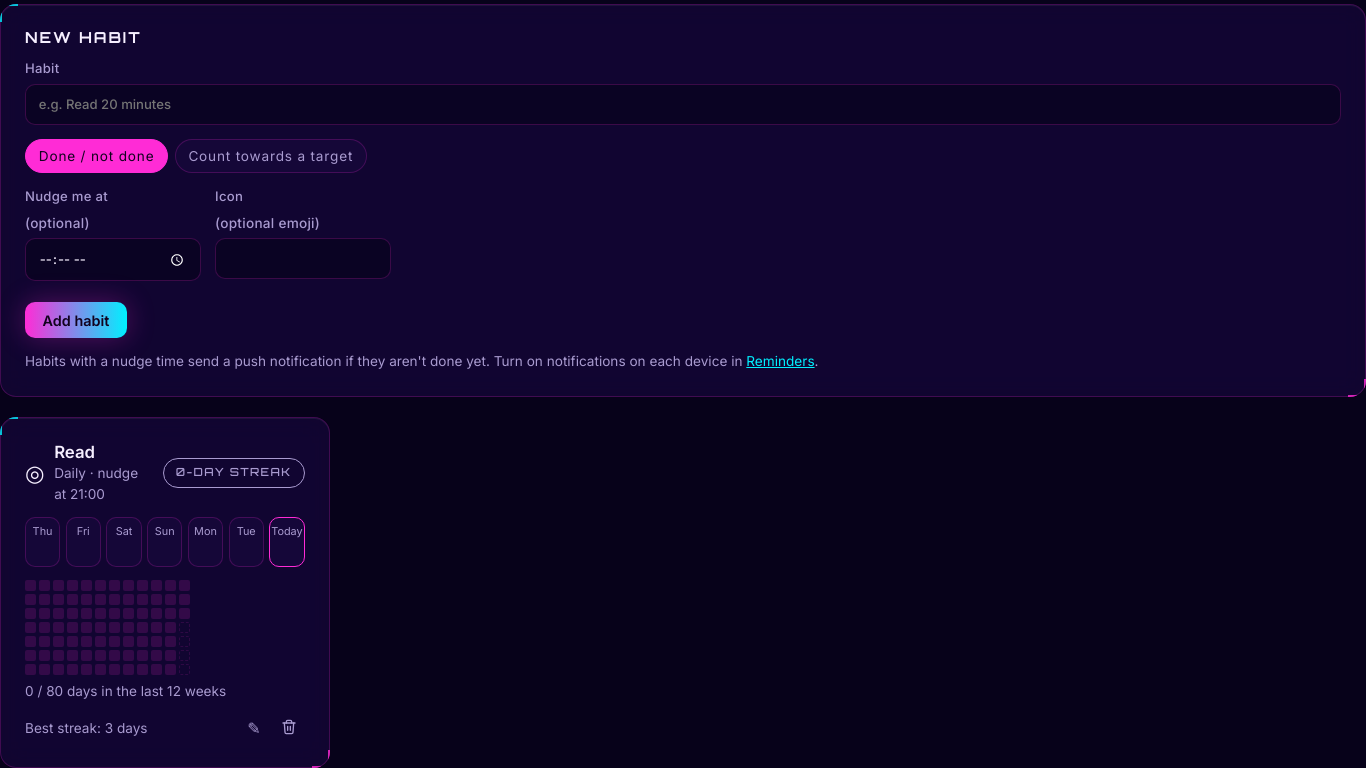
it: HabitsApp › rolls the tick back when the API refuses
The width and height of the screenshot is (1366, 768).
(page scrolled)
What coordinates should you click on to do the following:
click the button "Today"
I would click on:
 (287, 542)
Its box is 269,517 -> 304,567.
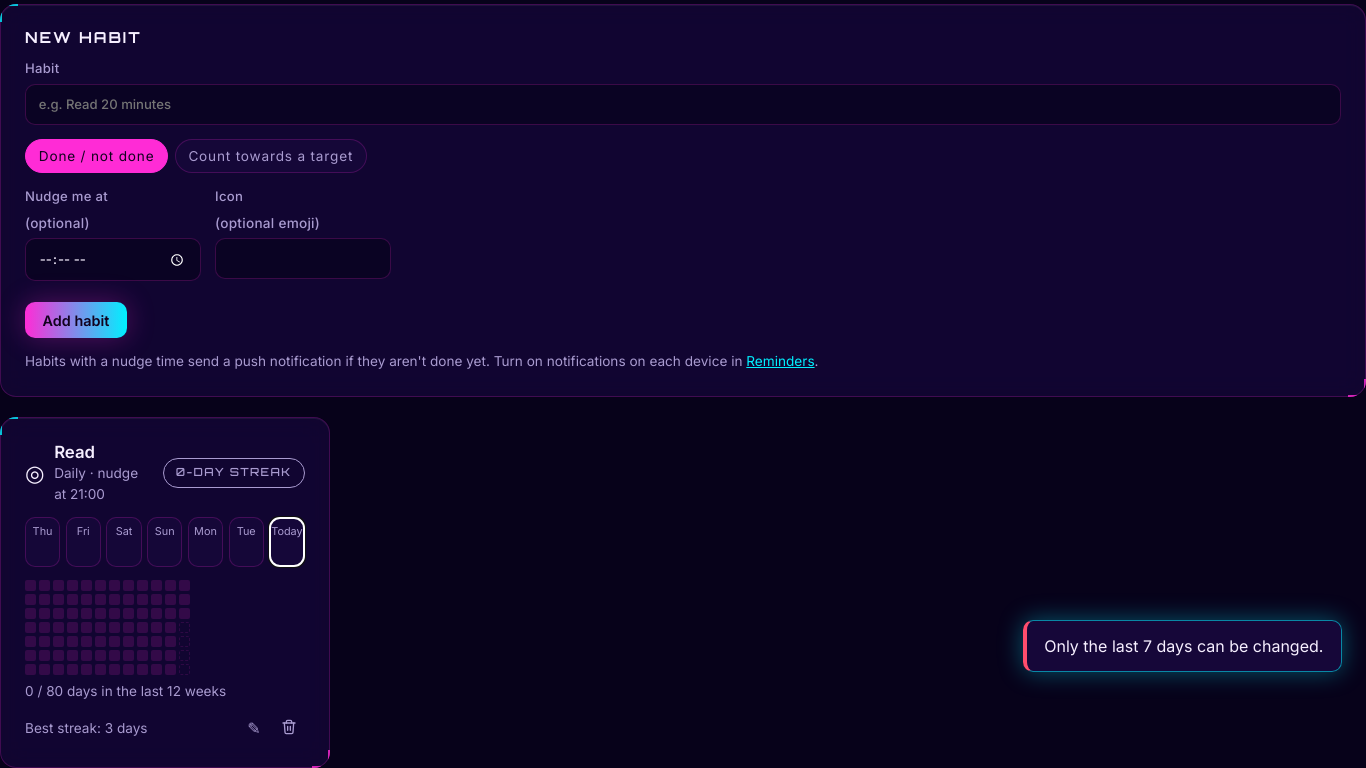
Check: the text "Only the last 7 days can be changed." is shown, box 1023,620 -> 1342,672
